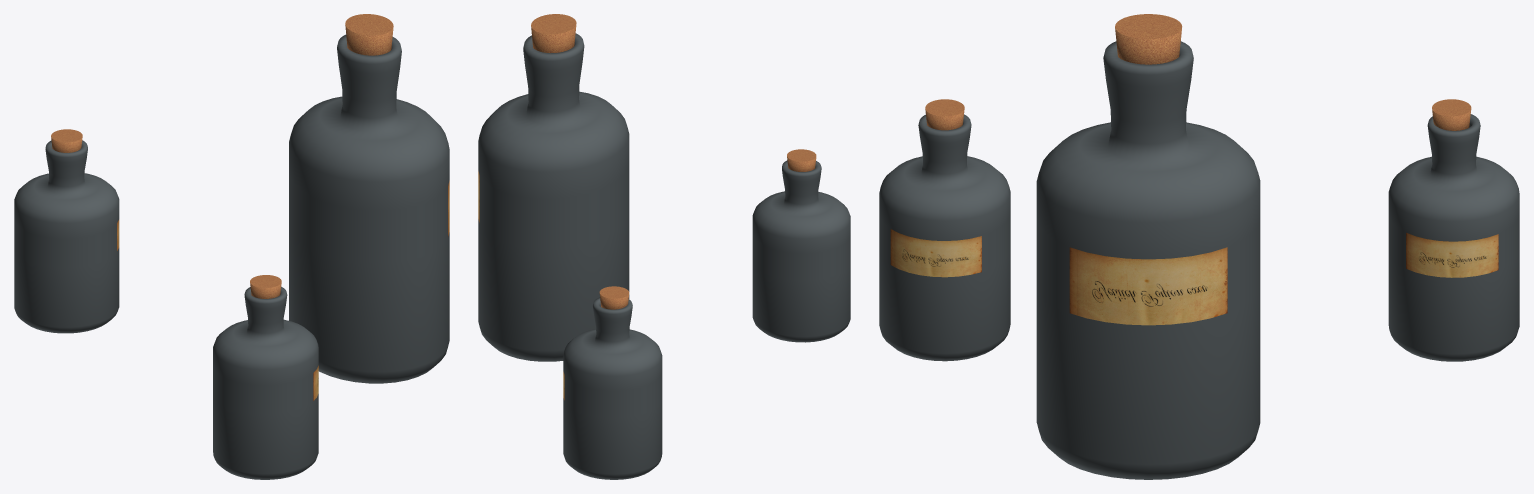
The model's file is Potion.obj.
The picture shows the model from 3 angles, left to right: view 1: azimuth 30°, elevation 25°; view 2: azimuth 150°, elevation 25°; view 3: azimuth 270°, elevation 25°; orthographic projection. The views are drawn at different scales.
Visible parts, largest first — view 1: Cylinder.018, Cylinder.003_Cylinder.004, Cylinder.004_Cylinder.005, Cylinder.001_Cylinder.002, Cylinder.002_Cylinder.003, Cylinder.005_Cylinder.006; view 2: Cylinder.018, Cylinder.004_Cylinder.005, Cylinder.003_Cylinder.004, Cylinder.001_Cylinder.002, Cylinder.005_Cylinder.006, Cylinder.002_Cylinder.003; view 3: Cylinder.018, Cylinder.004_Cylinder.005, Cylinder.003_Cylinder.004, Cylinder.001_Cylinder.002, Cylinder.005_Cylinder.006, Cylinder.002_Cylinder.003.
Boxes of the visible parts, x1=… form: Cylinder.018: x1=289, y1=34, x2=449, y2=383; Cylinder.003_Cylinder.004: x1=213, y1=287, x2=318, y2=479; Cylinder.004_Cylinder.005: x1=14, y1=140, x2=119, y2=333; Cylinder.001_Cylinder.002: x1=345, y1=14, x2=393, y2=55; Cylinder.002_Cylinder.003: x1=250, y1=275, x2=281, y2=298; Cylinder.005_Cylinder.006: x1=51, y1=129, x2=82, y2=152; Cylinder.018: x1=478, y1=33, x2=629, y2=361; Cylinder.004_Cylinder.005: x1=563, y1=297, x2=662, y2=479; Cylinder.003_Cylinder.004: x1=752, y1=160, x2=850, y2=342; Cylinder.001_Cylinder.002: x1=531, y1=14, x2=576, y2=53; Cylinder.005_Cylinder.006: x1=599, y1=286, x2=629, y2=309; Cylinder.002_Cylinder.003: x1=787, y1=149, x2=816, y2=171; Cylinder.018: x1=1036, y1=41, x2=1260, y2=479; Cylinder.004_Cylinder.005: x1=1388, y1=114, x2=1519, y2=361; Cylinder.003_Cylinder.004: x1=879, y1=114, x2=1010, y2=361; Cylinder.001_Cylinder.002: x1=1115, y1=14, x2=1182, y2=64; Cylinder.005_Cylinder.006: x1=1432, y1=99, x2=1471, y2=130; Cylinder.002_Cylinder.003: x1=925, y1=99, x2=964, y2=130.
Size of what is drawn, in the model's own units: 4.51 by 4.83 by 6.61.
